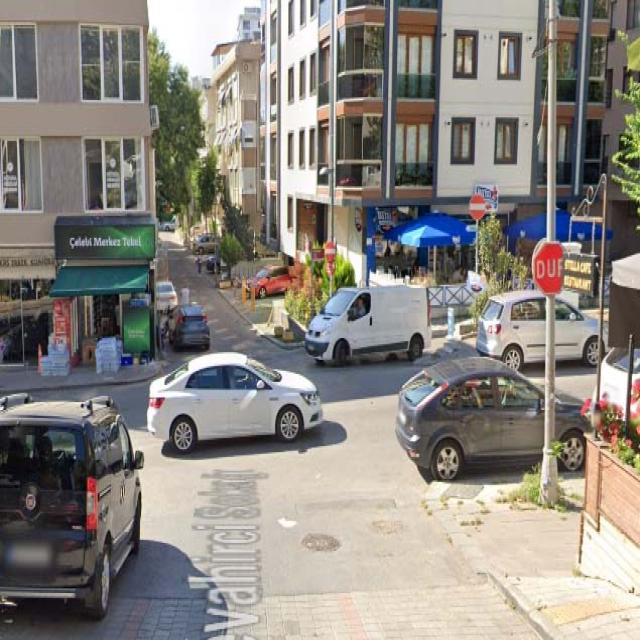dur: (531, 241, 569, 294)
girisyok: (468, 194, 486, 219), (324, 241, 338, 261)
